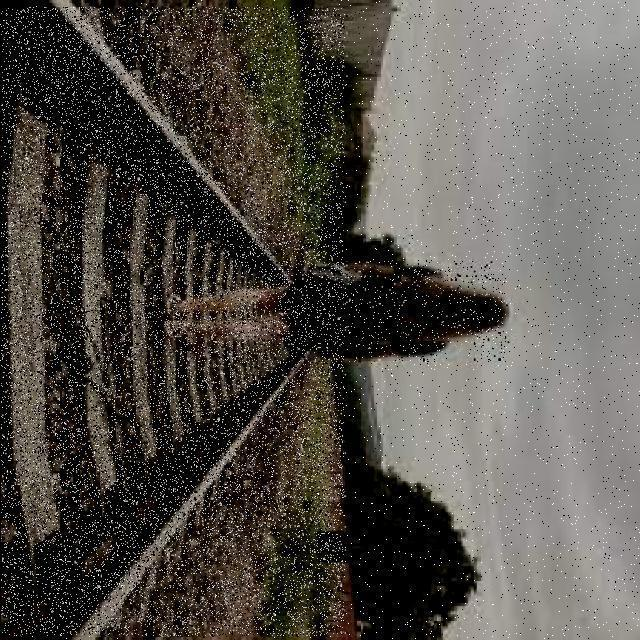rail: (2, 9, 345, 637)
